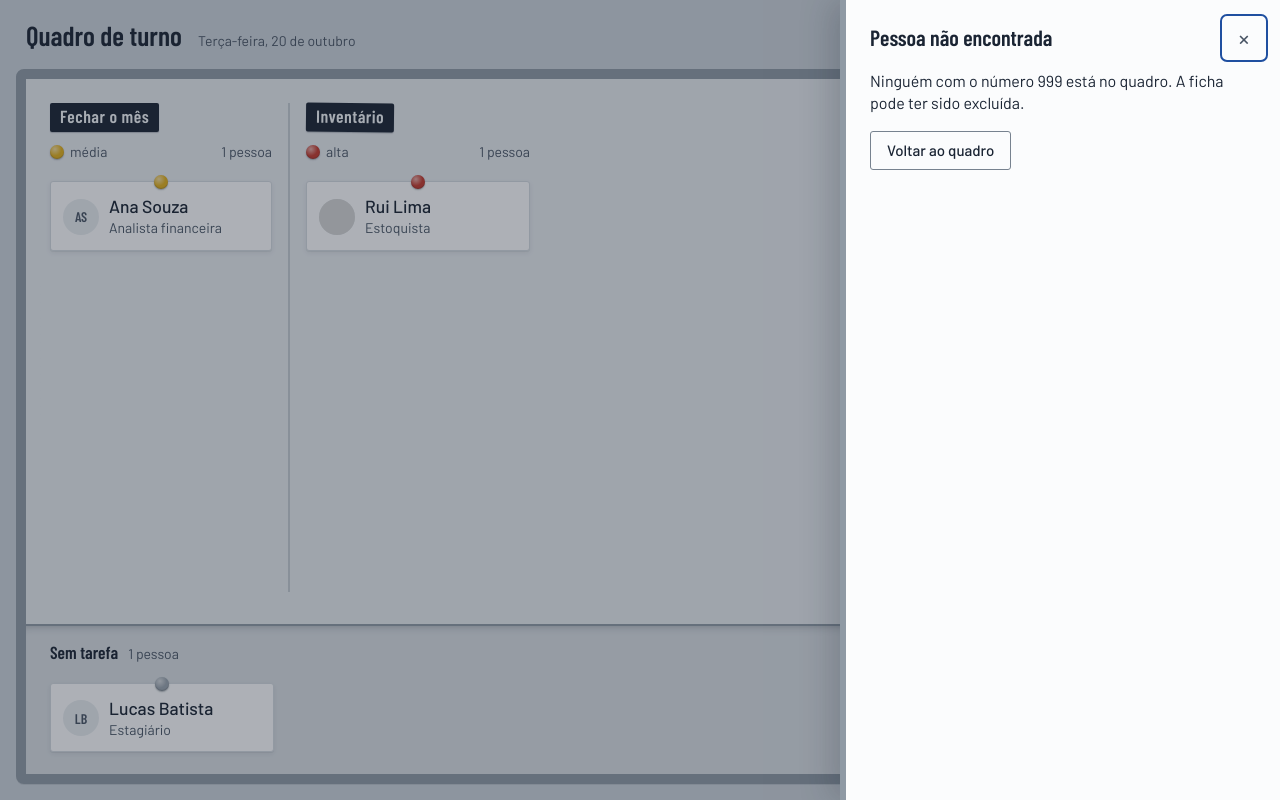
Test case: cadastrar e editar pessoa › link para uma pessoa que não existe explica e volta ao quadro
The width and height of the screenshot is (1280, 800).
Click the button "Voltar ao quadro".
click(941, 150)  # box [870,131,1011,170]
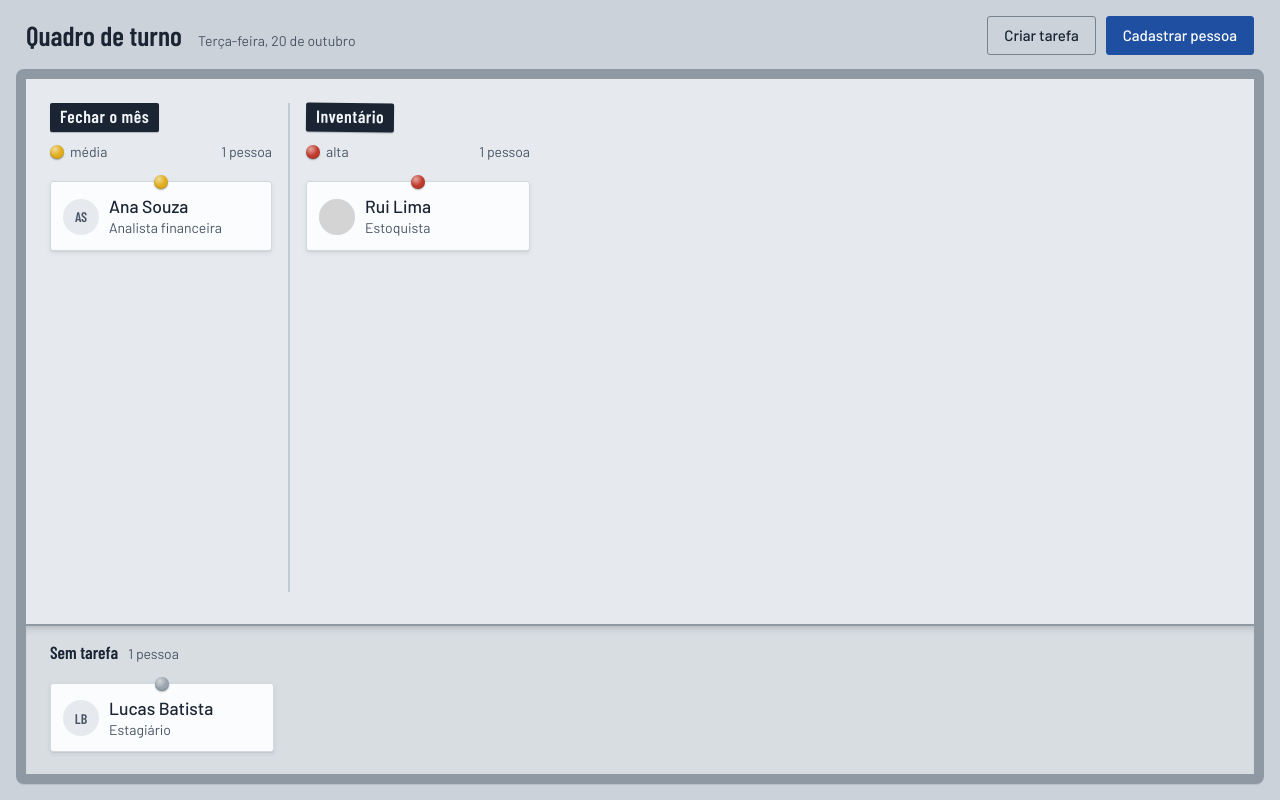
Check: the dialog is gone
